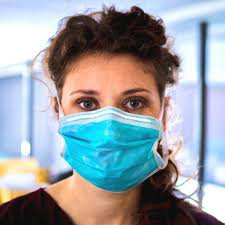mask: (41, 11, 182, 196)
